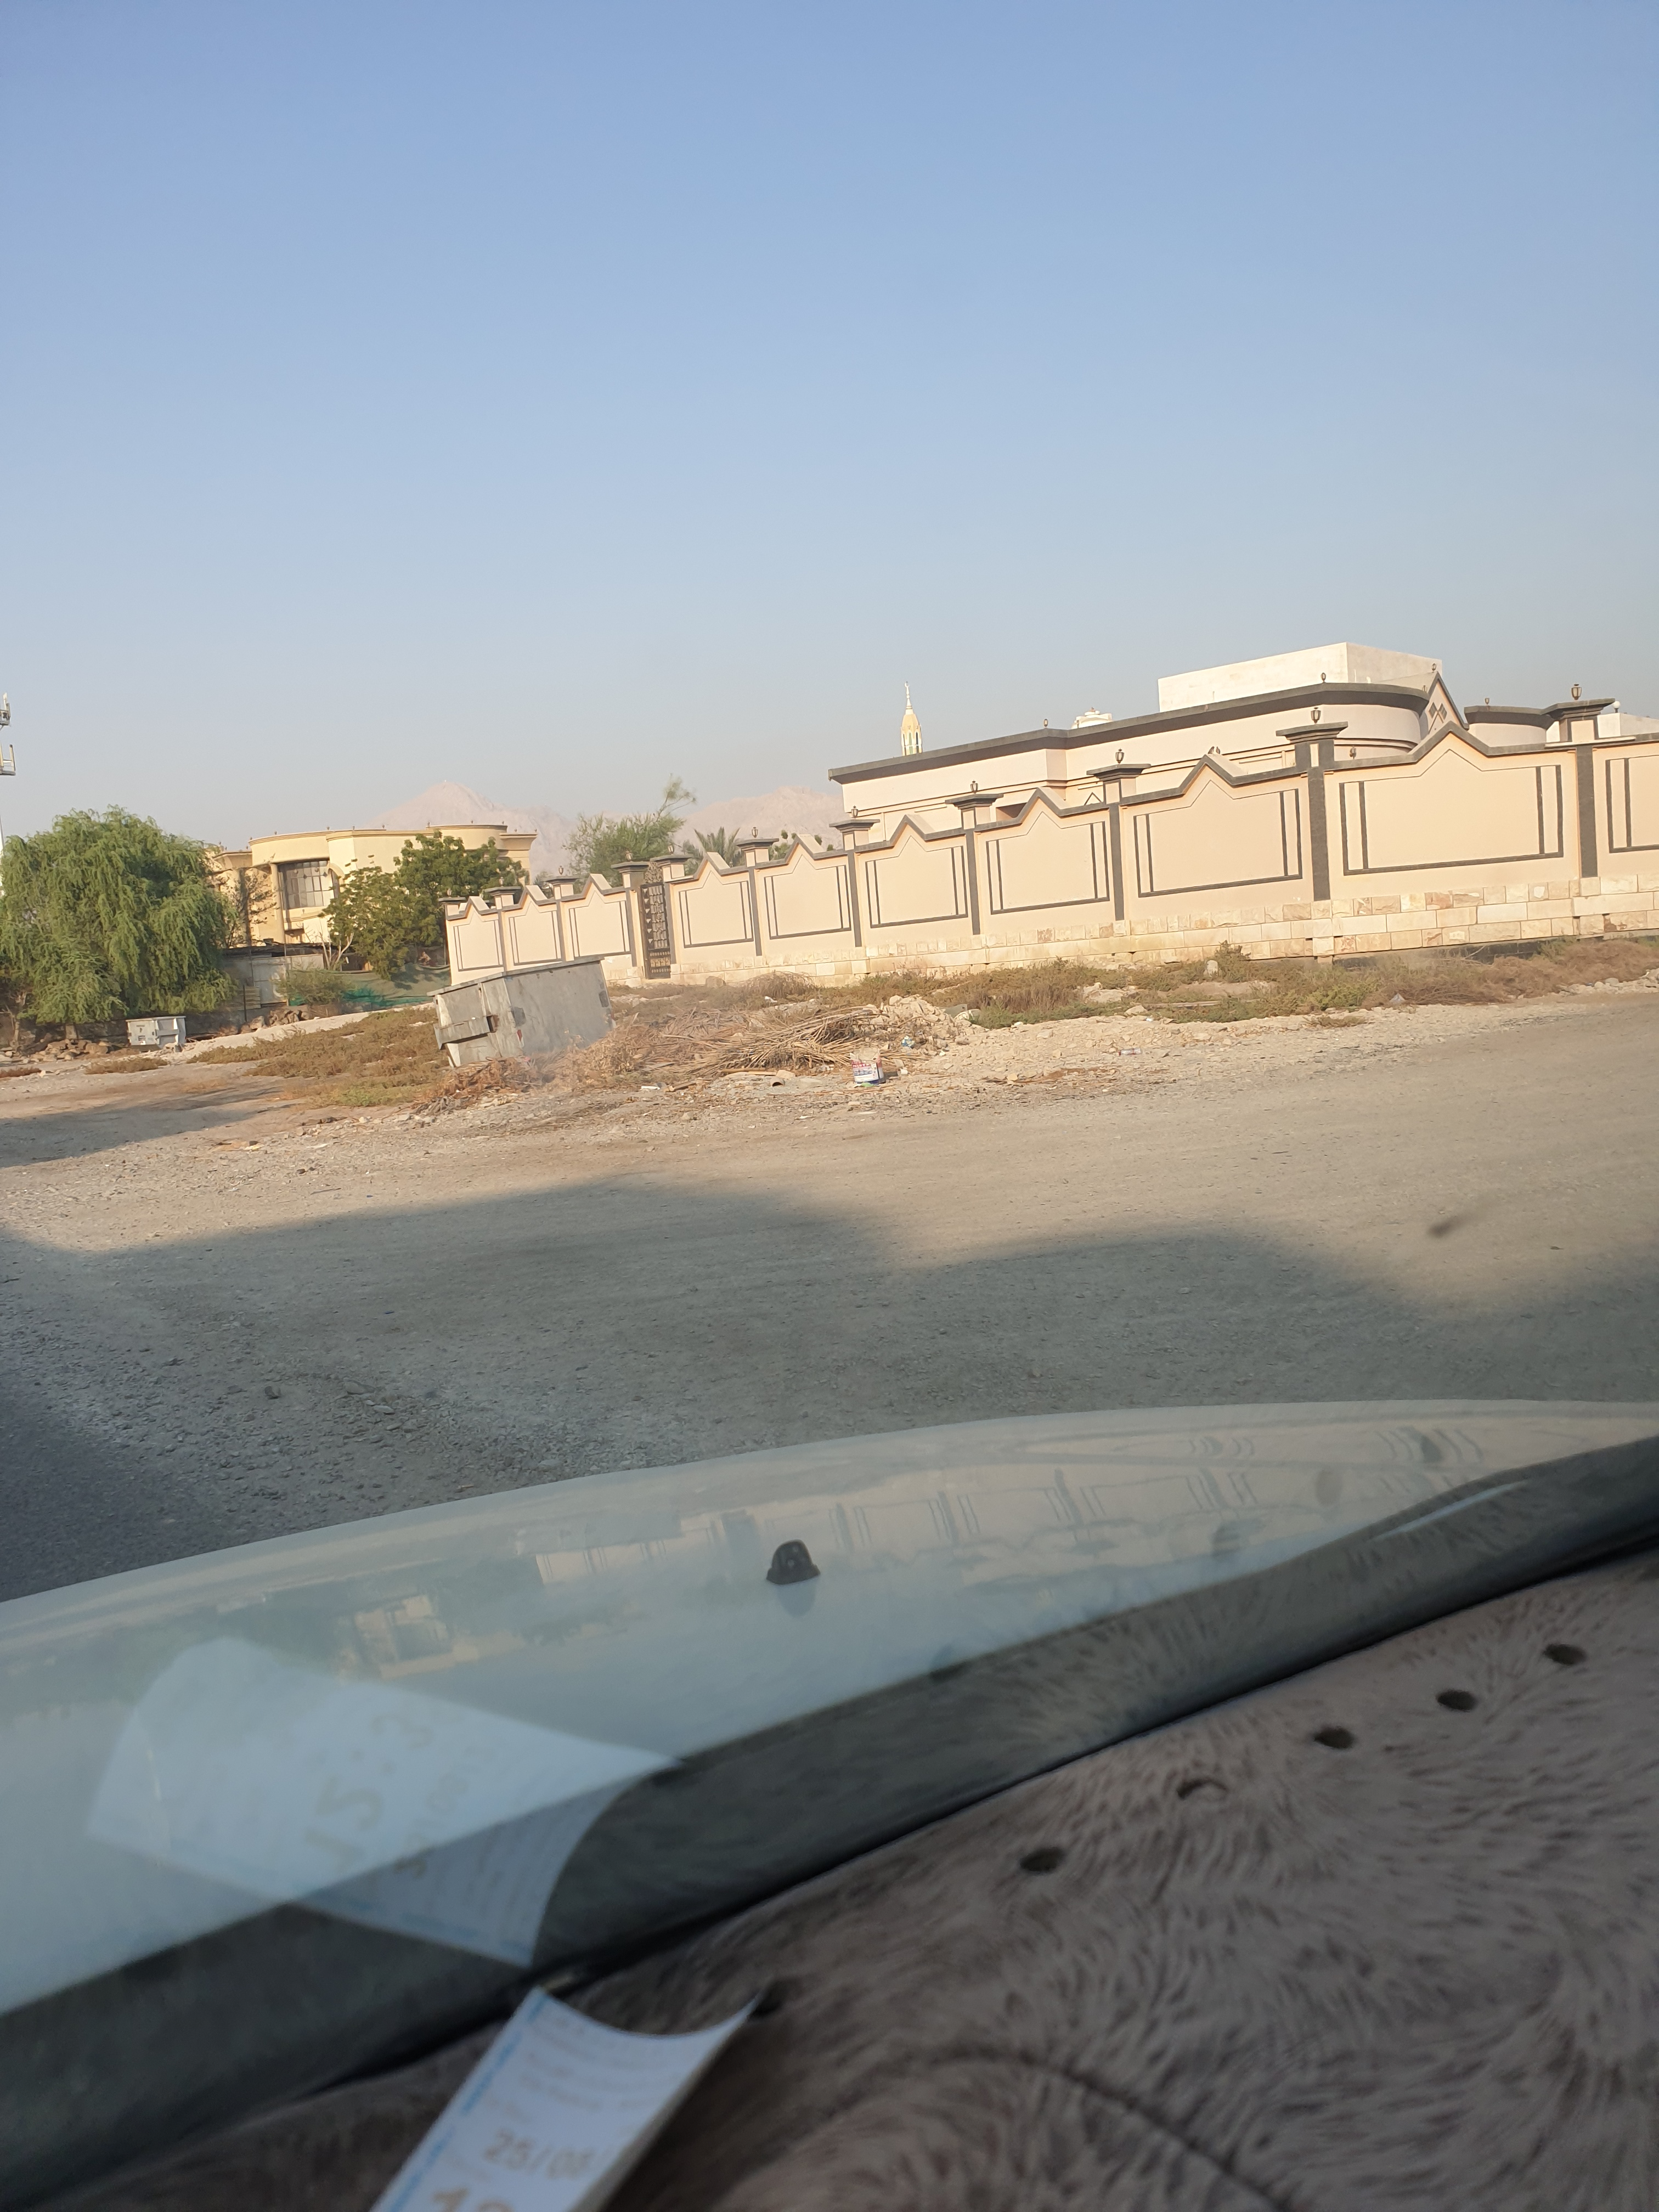fallen_trees: (692, 1022, 850, 1083), (579, 1054, 709, 1104)
uncollected_waste: (843, 1043, 899, 1099)
